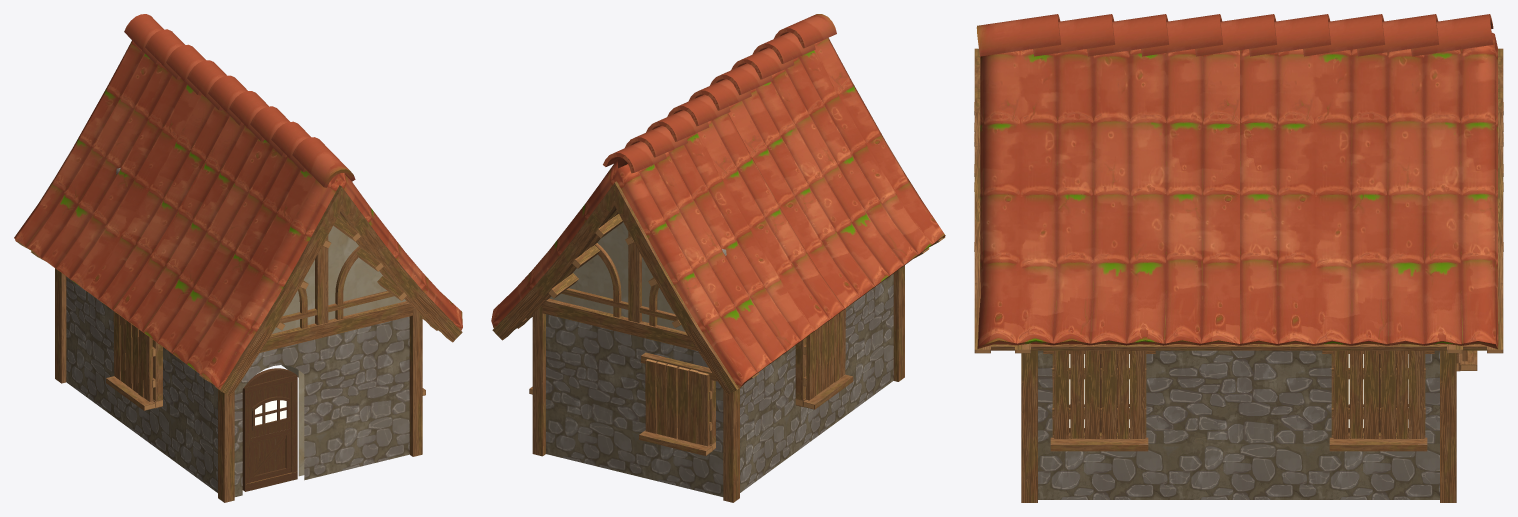
Rendered from kit-cottage-stone.glb.
3 renders of one model, left to right at view 1: azimuth 30°, elevation 25°; view 2: azimuth 150°, elevation 25°; view 3: azimuth 270°, elevation 25°, orthographic. The views are drawn at different scales.
Visible parts, largest first — view 1: house; view 2: house; view 3: house.
Boxes of the visible parts, box(x1,y1,x2,y2) form: house: box(14, 14, 462, 502); house: box(491, 14, 945, 502); house: box(974, 14, 1503, 502).
Size of the model in its own units: 5.51 by 6.72 by 7.59.
6 materials, 5 textured.
